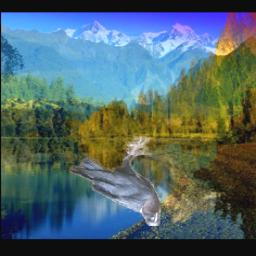Crow: (69, 137, 161, 227)
